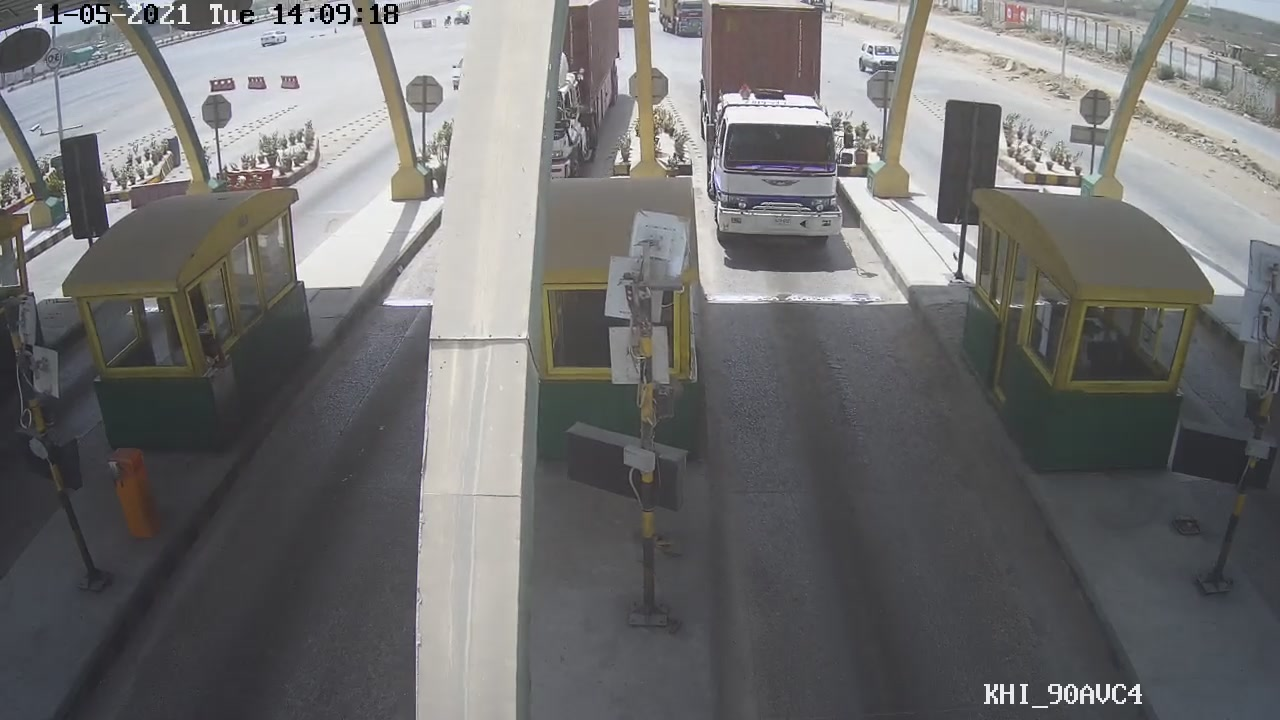F6: (699, 1, 852, 262)
